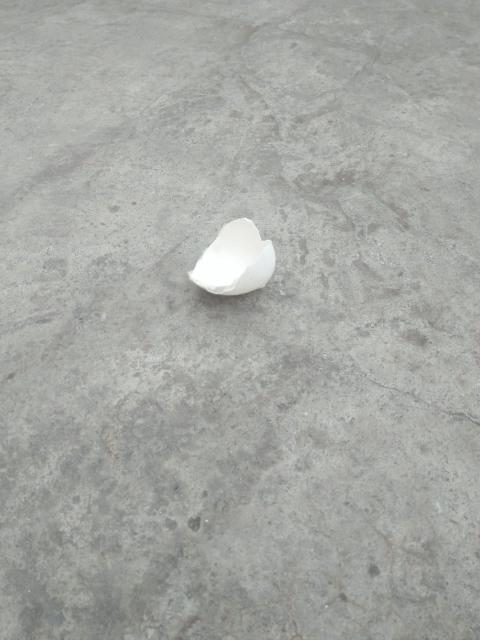Roto: (186, 216, 276, 296)
